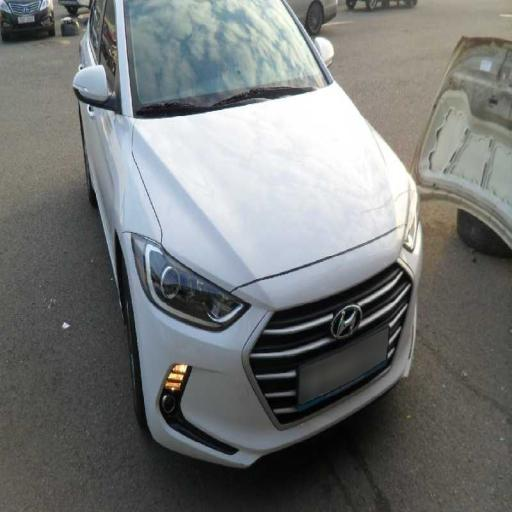dent: (343, 175, 429, 271)
